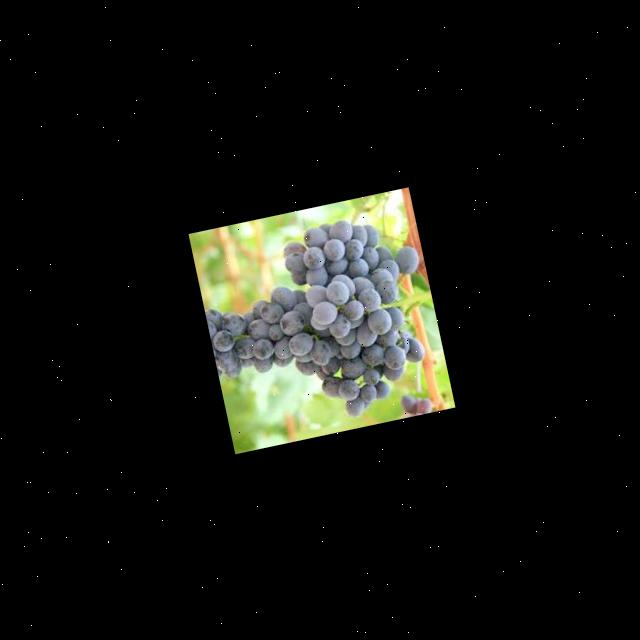grape: (192, 205, 448, 442)
